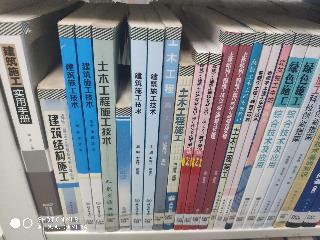book-spine: (229, 31, 311, 231), (237, 35, 320, 230), (0, 19, 64, 235), (224, 32, 294, 229), (217, 32, 285, 230), (211, 32, 274, 230), (248, 64, 320, 230), (195, 32, 255, 230), (206, 30, 264, 229), (186, 31, 241, 230), (58, 23, 95, 232), (179, 53, 221, 229), (170, 53, 208, 229), (149, 26, 180, 229), (41, 87, 84, 232), (76, 25, 105, 233), (160, 65, 194, 231), (92, 26, 118, 232), (138, 29, 164, 229), (132, 28, 147, 230), (117, 107, 130, 231)
